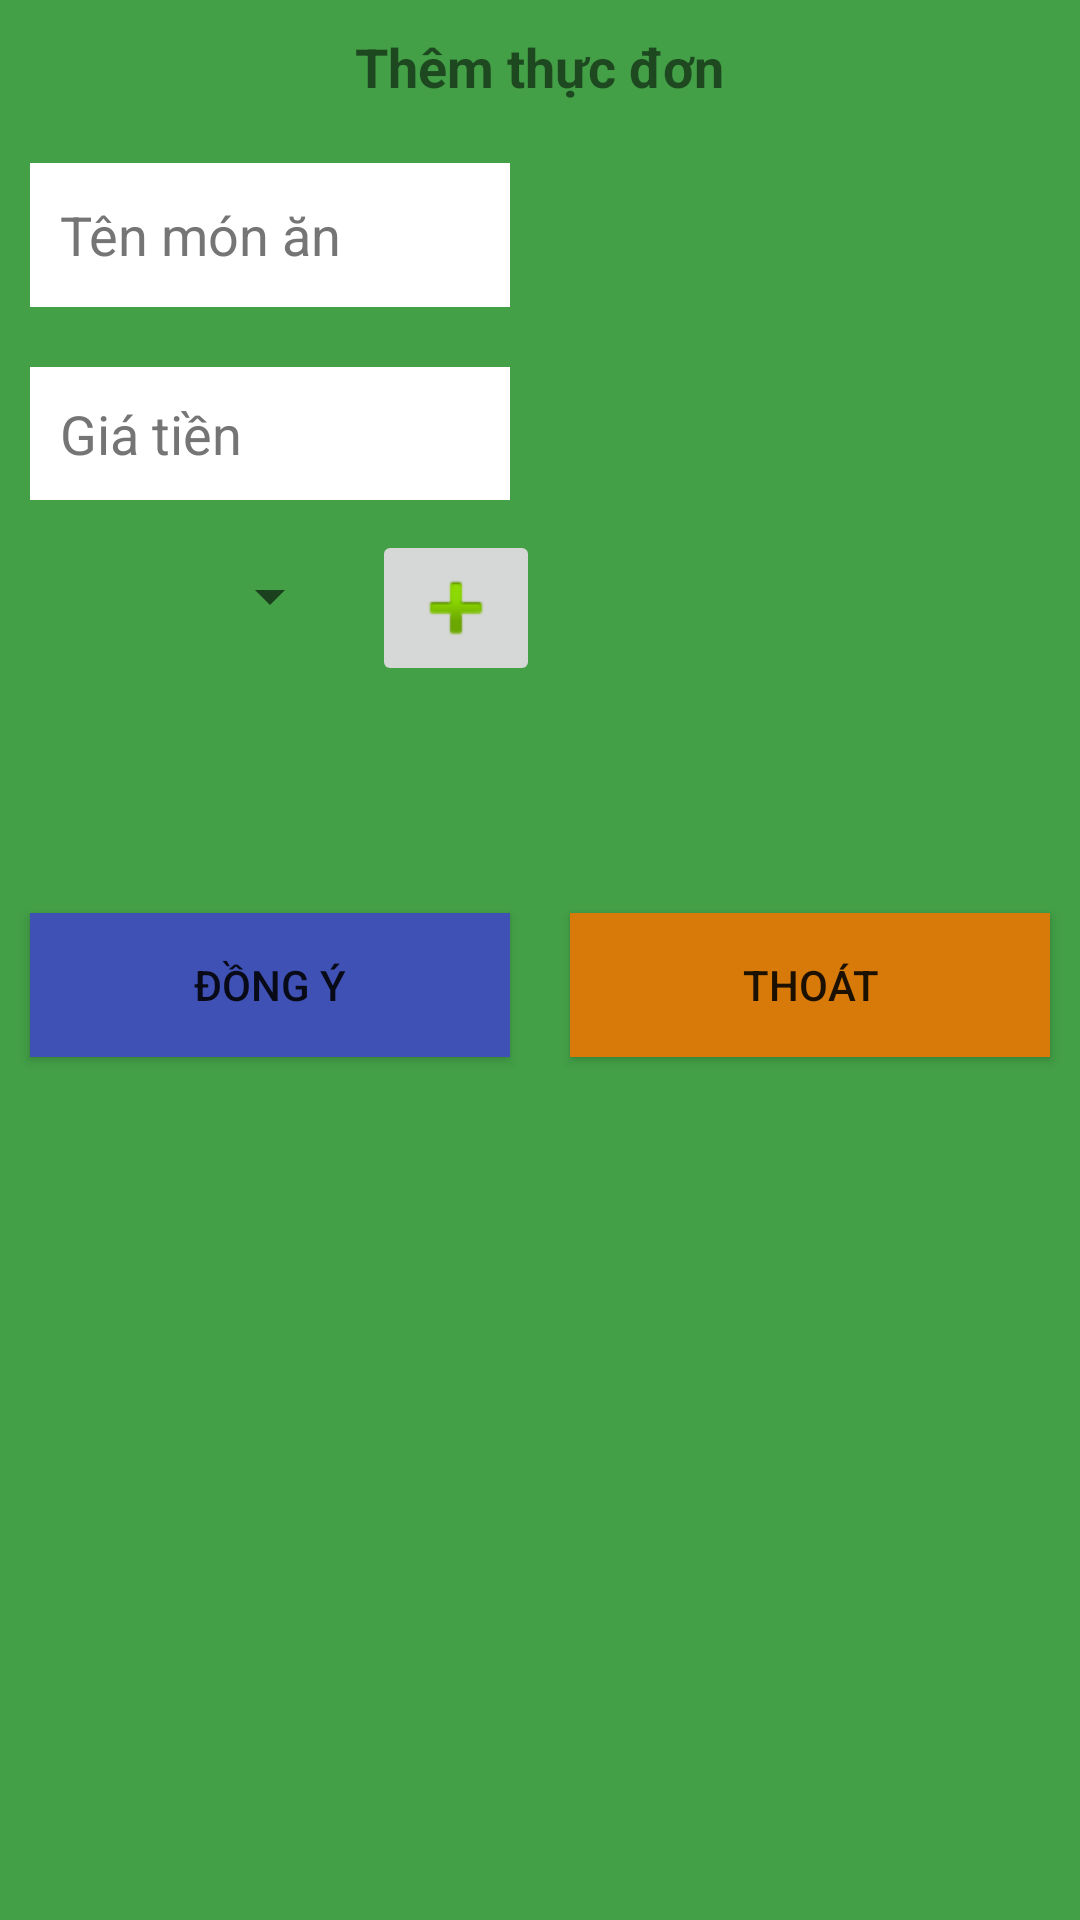

Locate icon controls on the screen. Image size 1080*1920, boxes as BBox(x1, y1, x2, y2).
add: BBox(384, 548, 528, 668)
